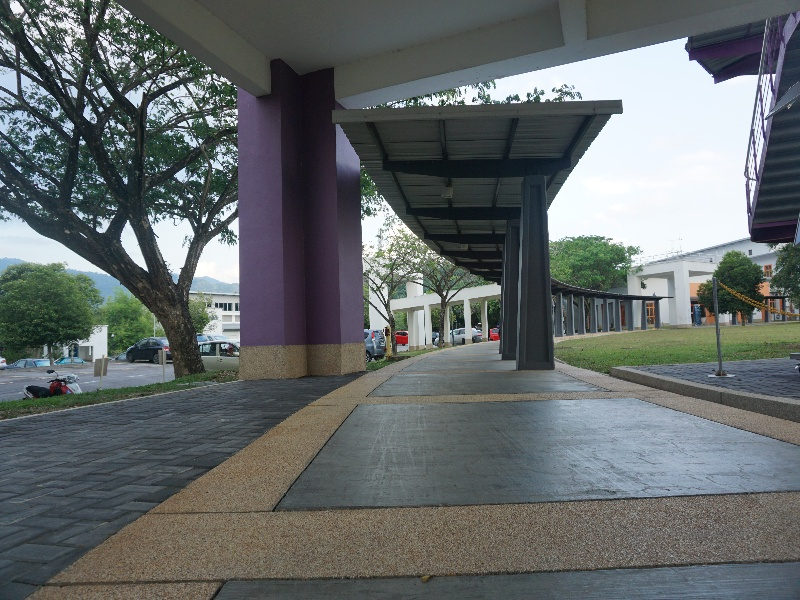pillar: (218, 51, 377, 371)
